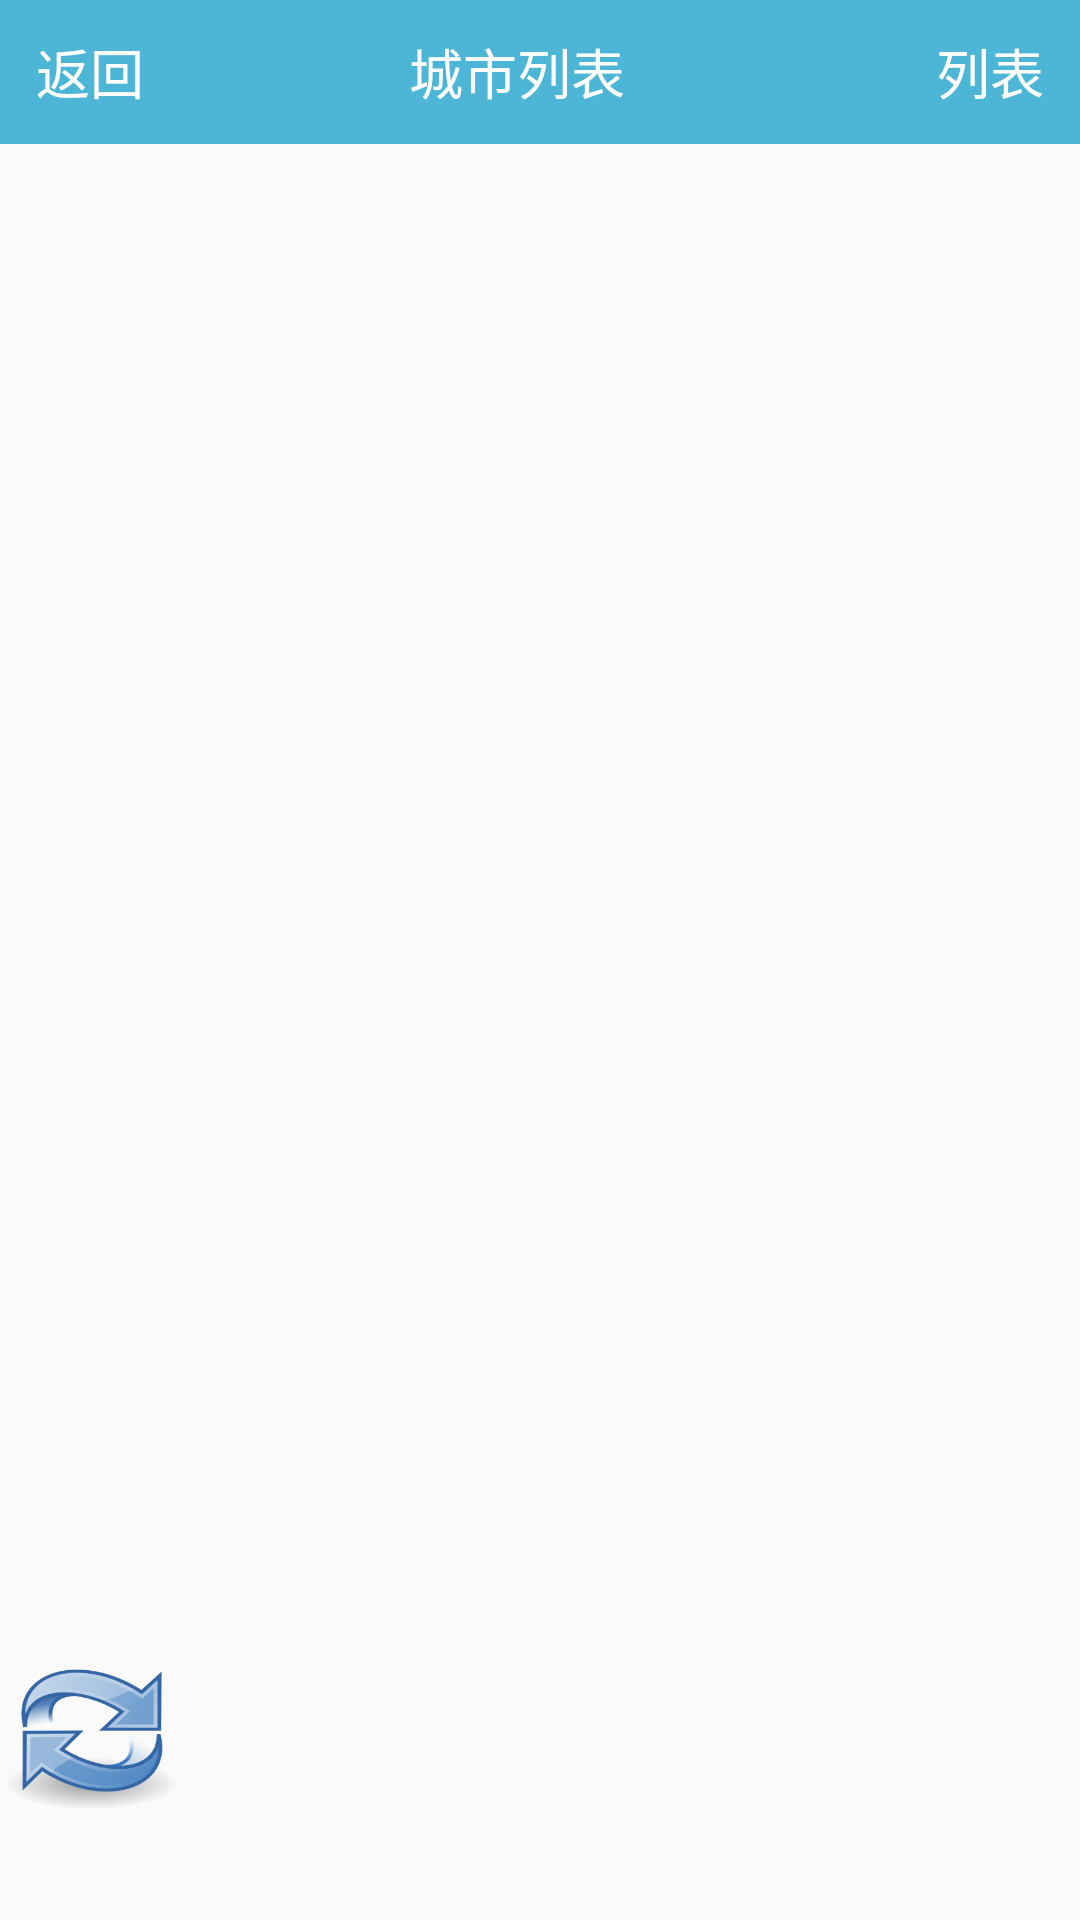

Named icons in this screenshot (1080×1920) and their centers, (x,y):
update: (92,1736)
